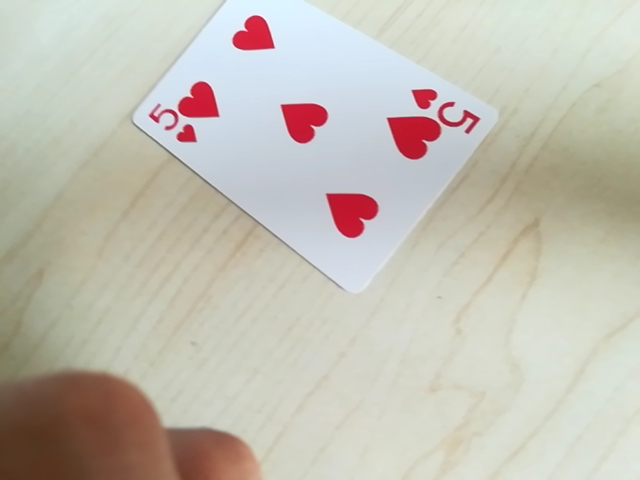hx 5: (406, 86, 486, 132), (146, 106, 210, 149)
